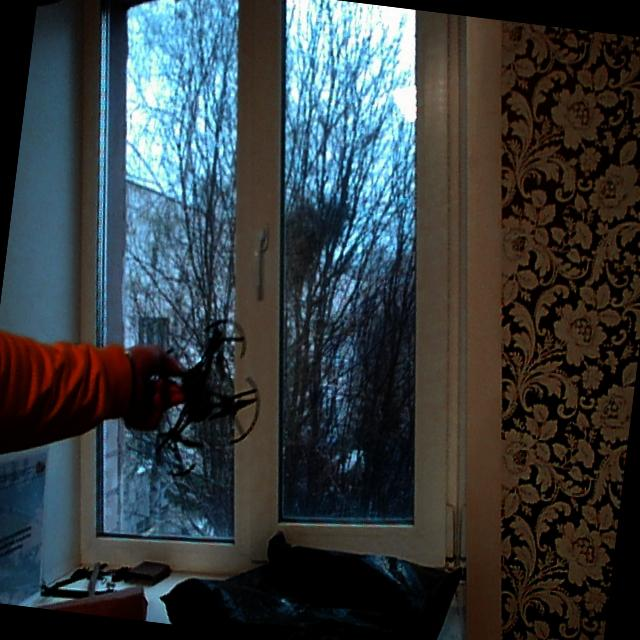drone: (130, 293, 276, 492)
